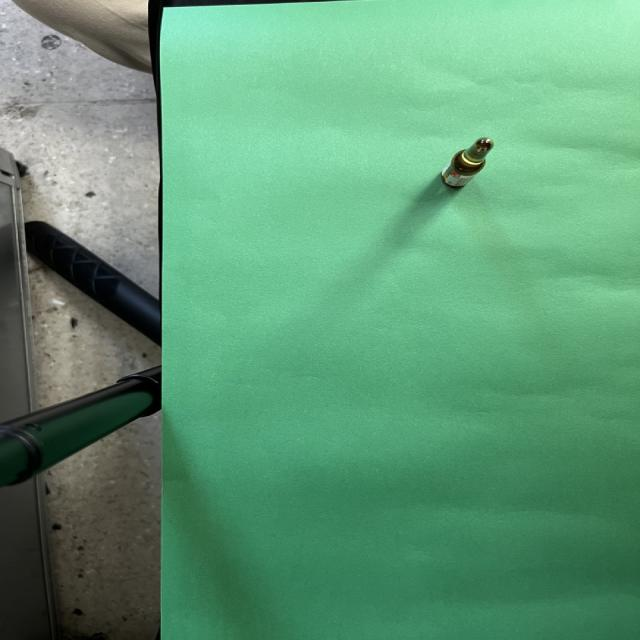Ampoules: (441, 138, 494, 188)
